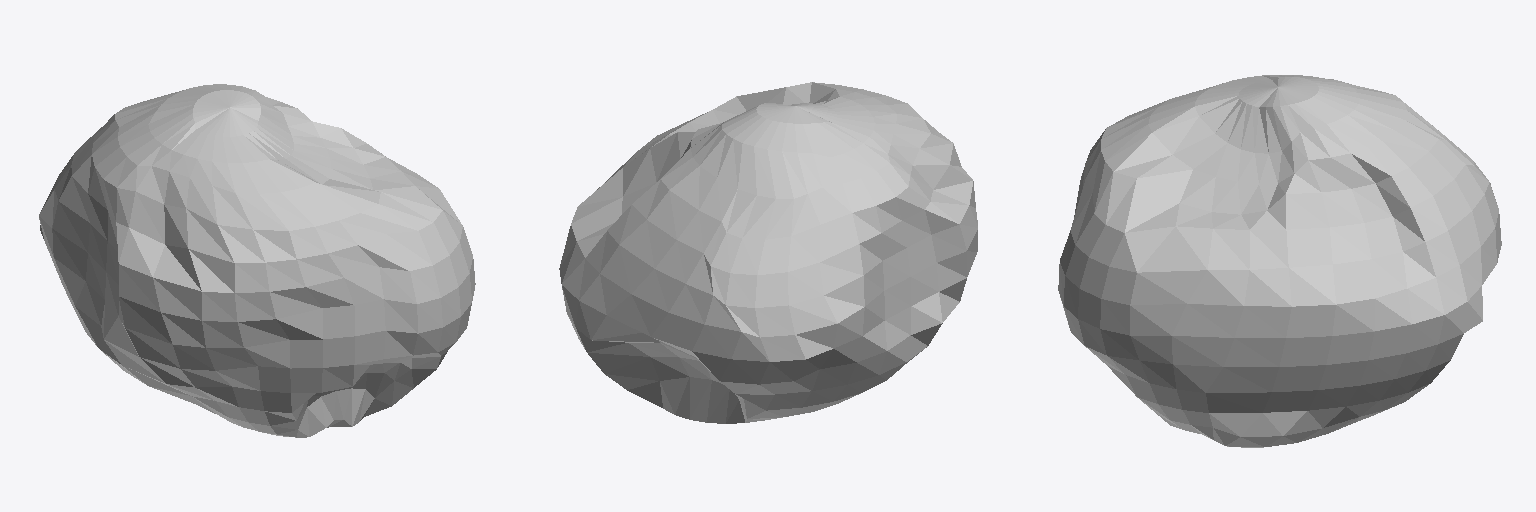
Rendered from asteroide.obj.
3 renders of one model, left to right at view 1: azimuth 30°, elevation 25°; view 2: azimuth 150°, elevation 25°; view 3: azimuth 270°, elevation 25°, orthographic.
Parts seen in each view (by area): view 1: Sphere; view 2: Sphere; view 3: Sphere.
Part boxes in pixels (bbox=[...]): Sphere: bbox=[39, 84, 475, 437]; Sphere: bbox=[559, 82, 977, 423]; Sphere: bbox=[1058, 75, 1501, 447].
Size of the model in its own units: 2.3 by 2.03 by 2.62.